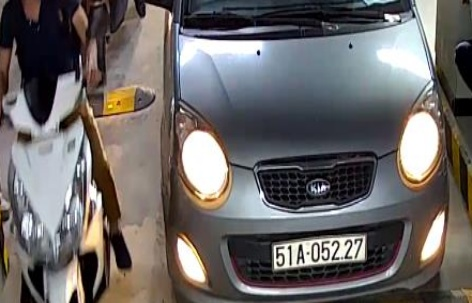plate: (269, 231, 370, 271)
